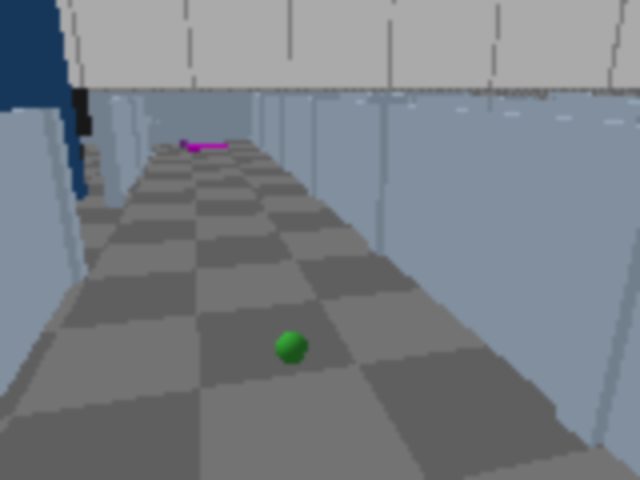goal_zone: (187, 144, 229, 150)
puck: (270, 324, 314, 373)
